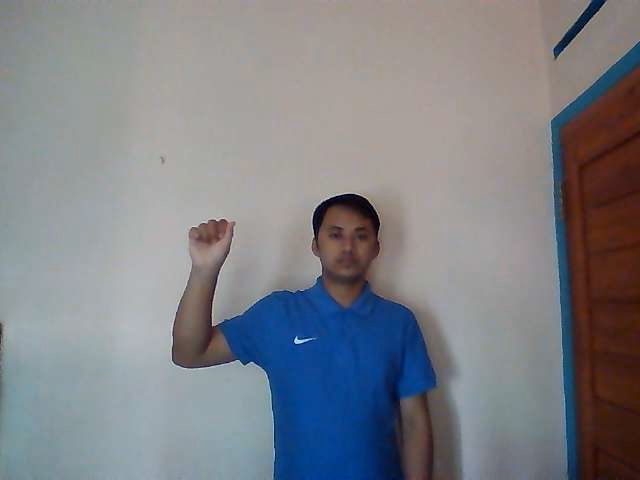A: (186, 217, 237, 268)
